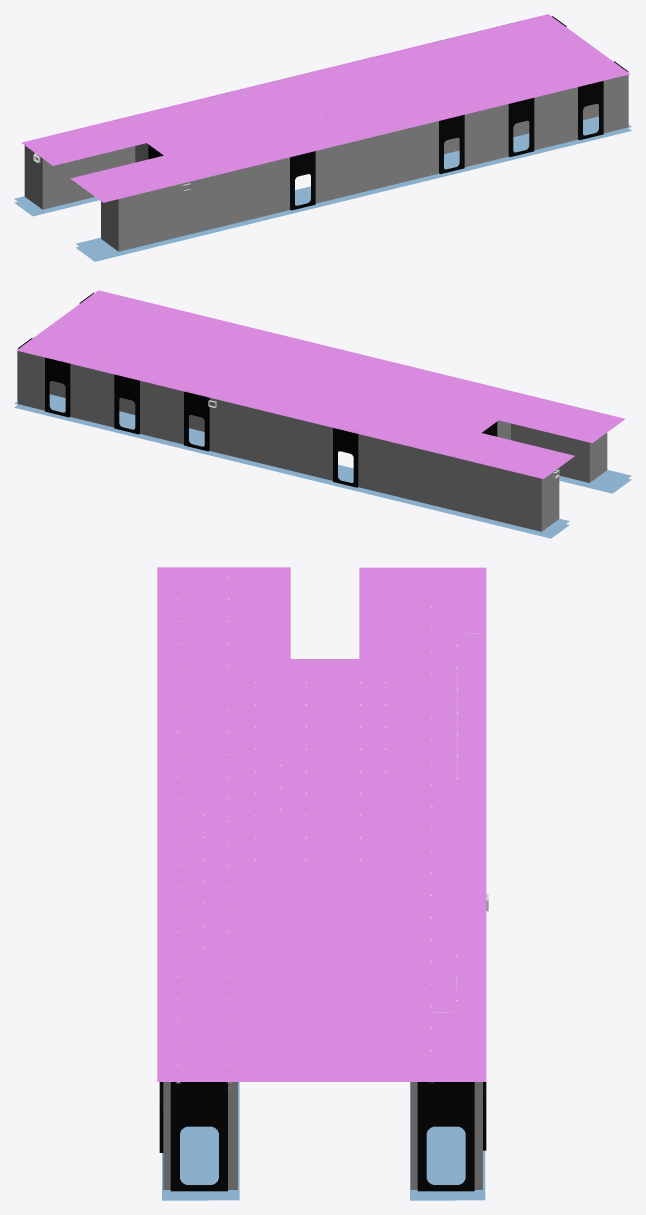
Rendered from hallway.FBX.
3 views of the same model, one above another, from view 1: azimuth 30°, elevation 25°; view 2: azimuth 150°, elevation 25°; view 3: azimuth 270°, elevation 25° (orthographic). The views are drawn at different scales.
Parts seen in each view (by area): view 1: Box022, Object093, Box021, Object084, Object086, Object087, Object085; view 2: Box022, Object093, Box021, Object089, Object091, Object092, Object090; view 3: Box022, Box021, Object082, Object079, Object093.
Boxes of the visible parts, bbox=[...] form: Box022: bbox=[21, 14, 630, 202]; Object093: bbox=[24, 74, 628, 251]; Box021: bbox=[14, 116, 631, 261]; Object084: bbox=[508, 98, 534, 157]; Object086: bbox=[439, 114, 464, 174]; Object087: bbox=[290, 151, 315, 210]; Object085: bbox=[578, 81, 603, 140]; Box022: bbox=[16, 290, 624, 478]; Object093: bbox=[17, 351, 607, 531]; Box021: bbox=[14, 394, 631, 538]; Object089: bbox=[333, 428, 358, 487]; Object091: bbox=[114, 374, 139, 434]; Object092: bbox=[45, 357, 70, 417]; Object090: bbox=[184, 391, 209, 451]; Box022: bbox=[157, 567, 486, 1081]; Box021: bbox=[162, 1082, 485, 1200]; Object082: bbox=[417, 1082, 474, 1191]; Object079: bbox=[170, 1082, 227, 1191]; Object093: bbox=[163, 1082, 482, 1189].
Bounding box in the file's own units: 320 × 33.15 × 85.34.
